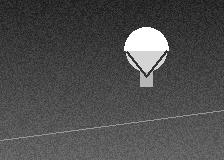helmet: (124, 27, 168, 76)
